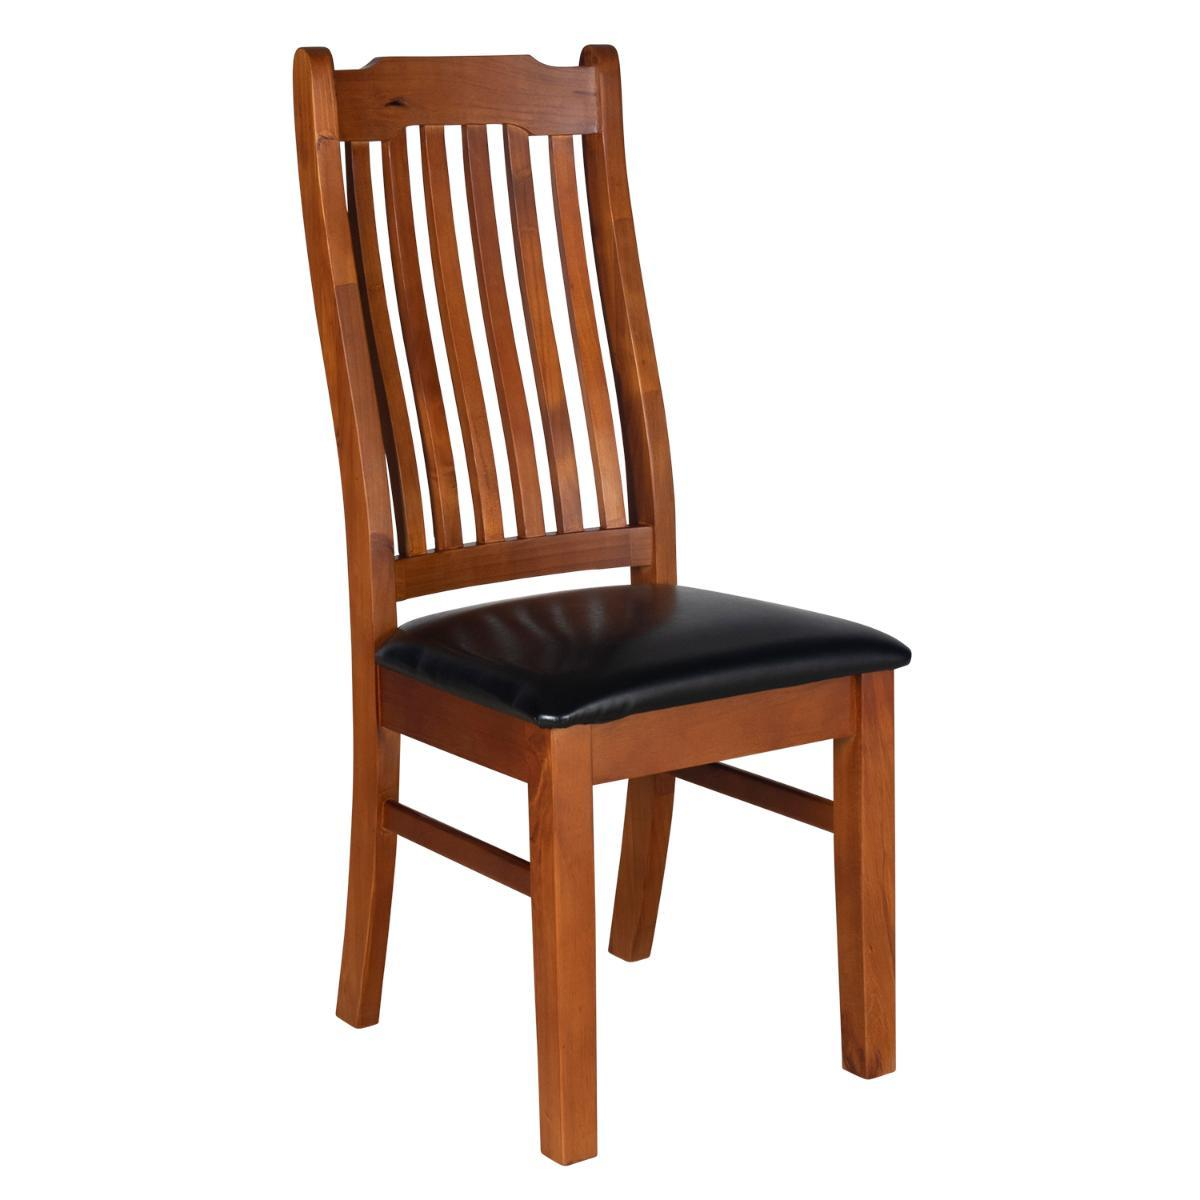Chair: (283, 35, 906, 1167)
